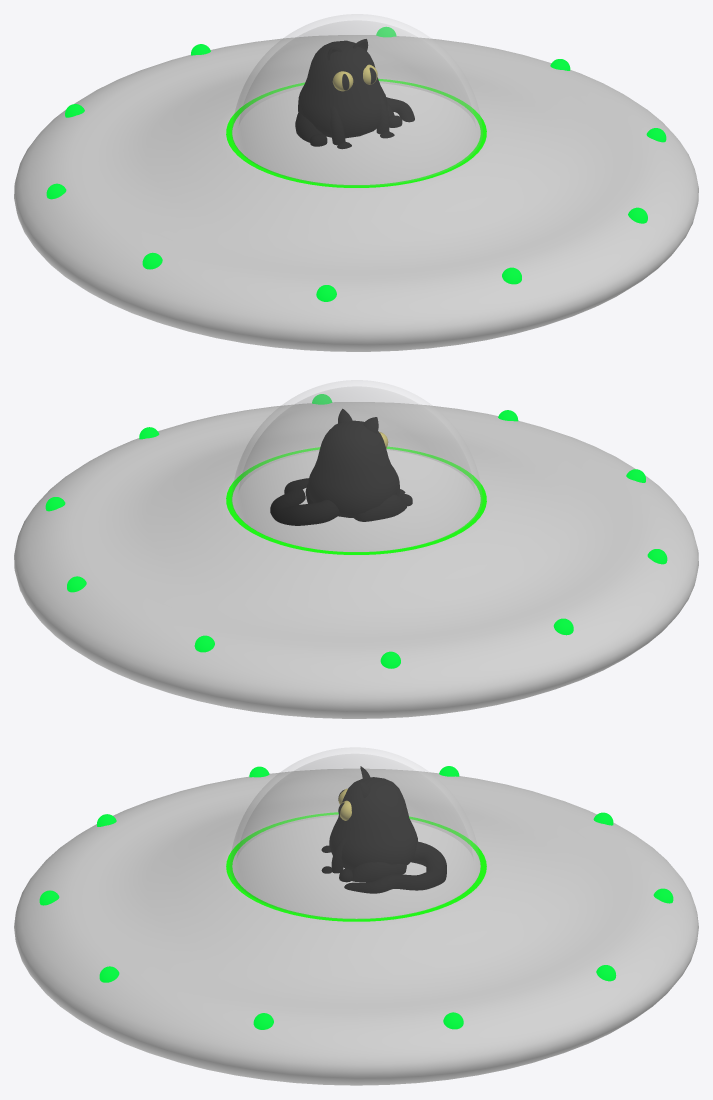
The model's file is ufo_1_cat.glb.
The picture shows the model from 3 angles, top to bottom: view 1: azimuth 30°, elevation 25°; view 2: azimuth 150°, elevation 25°; view 3: azimuth 270°, elevation 25°; orthographic projection.
Parts seen in each view (by area): view 1: Sphere.001, Sphere.002, Bob, Plane.001, Plane.002, Sphere; view 2: Sphere.001, Sphere.002, Bob, Plane.003, Plane.002; view 3: Sphere.001, Sphere.002, Bob, Plane.003, Plane.002.
Part boxes in pixels (<box>): Sphere.001: <box>14,35,698,351</box>; Sphere.002: <box>232,14,482,185</box>; Bob: <box>298,40,387,138</box>; Plane.001: <box>330,94,394,149</box>; Plane.002: <box>295,102,402,146</box>; Sphere: <box>332,64,377,91</box>; Sphere.001: <box>14,402,698,718</box>; Sphere.002: <box>231,380,482,551</box>; Bob: <box>308,420,397,517</box>; Plane.003: <box>270,478,339,525</box>; Plane.002: <box>305,483,412,521</box>; Sphere.001: <box>14,768,698,1085</box>; Sphere.002: <box>229,747,480,919</box>; Bob: <box>329,777,417,870</box>; Plane.003: <box>344,841,446,893</box>; Plane.002: <box>339,862,406,882</box>.
Bounding box in the file's own units: 8.18 × 3.08 × 8.18.
6 materials, 1 textured.
